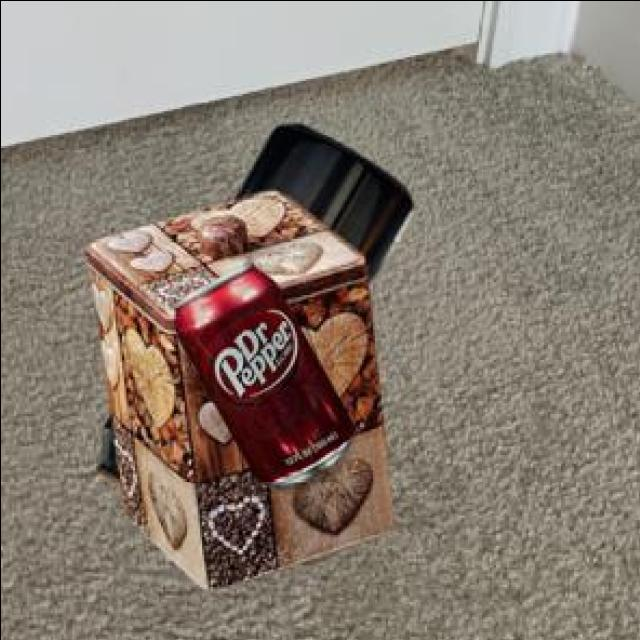logam: (83, 187, 390, 585), (228, 120, 408, 393), (168, 258, 351, 485), (92, 393, 228, 481)
